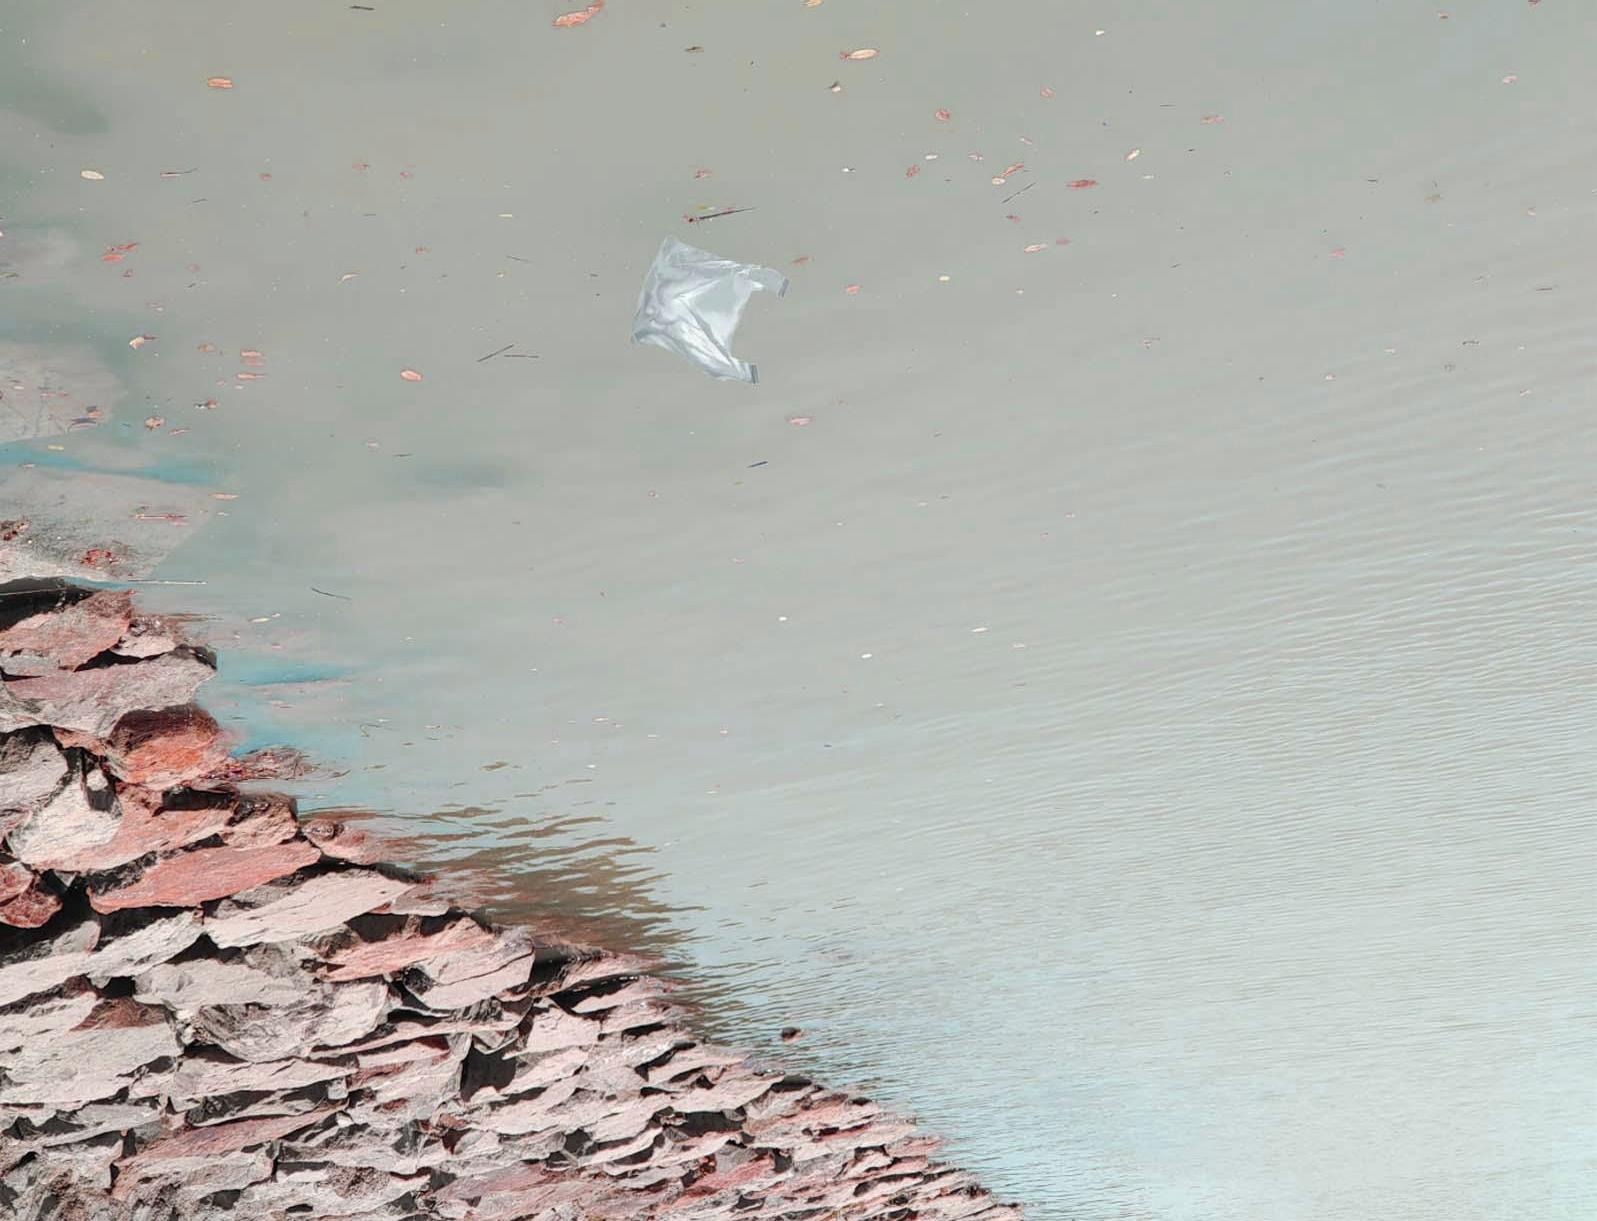Trash: (635, 226, 789, 389)
